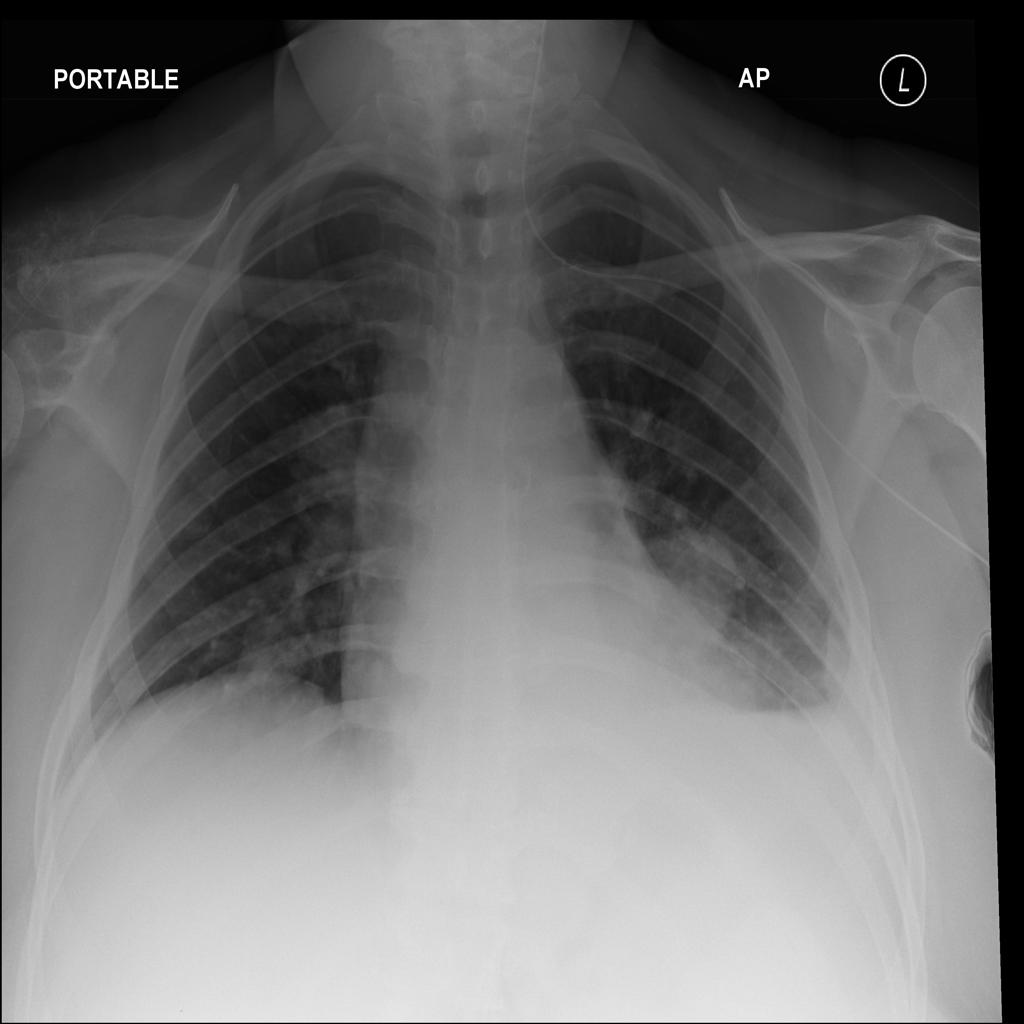nodule: (608, 522, 754, 672), (215, 610, 335, 729), (157, 486, 229, 556)
